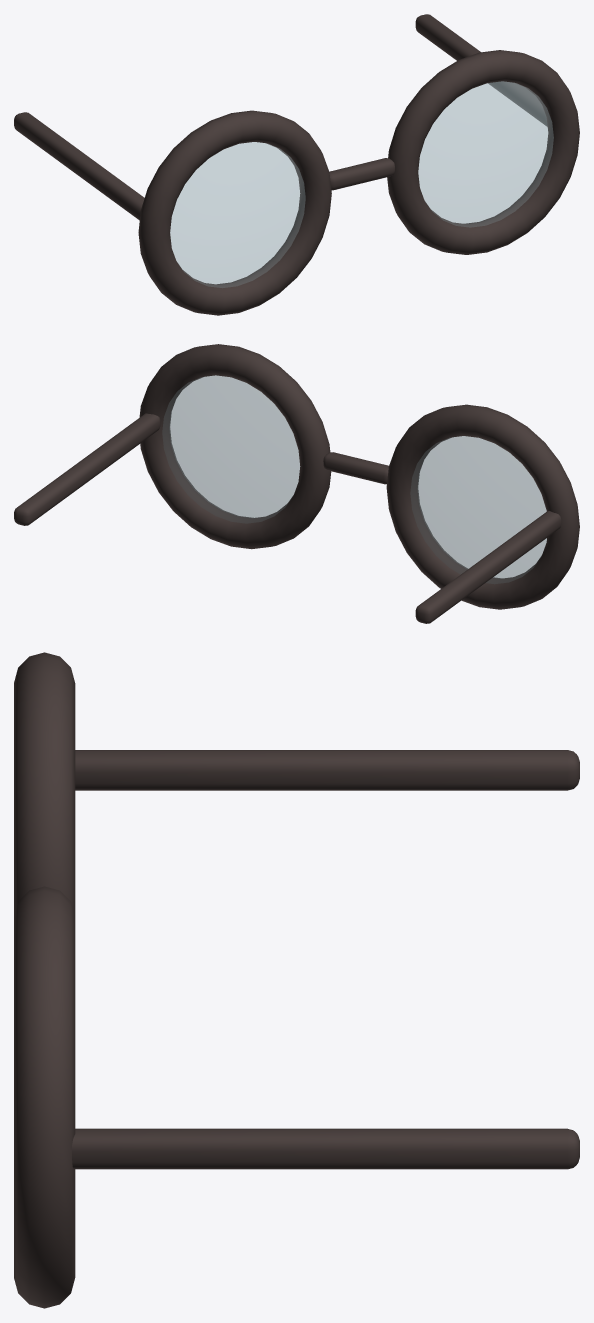
File: part_glasses.glb
3 renders of one model, top to bottom at view 1: azimuth 30°, elevation 25°; view 2: azimuth 150°, elevation 25°; view 3: azimuth 270°, elevation 25°, orthographic. The views are drawn at different scales.
Parts seen in each view (by area): view 1: Gls_Rim_L, Gls_Rim_R, Gls_Lens_R, Gls_Lens_L, Gls_Temple_L, Gls_Temple_R, Gls_Bridge; view 2: Gls_Rim_R, Gls_Rim_L, Gls_Lens_R, Gls_Lens_L, Gls_Temple_R, Gls_Temple_L, Gls_Bridge; view 3: Gls_Rim_R, Gls_Temple_R, Gls_Temple_L, Gls_Rim_L.
Boxes of the visible parts, box(x1,y1,x2,y2) form: Gls_Rim_L: box(138, 110, 331, 315); Gls_Rim_R: box(387, 50, 579, 254); Gls_Lens_R: box(418, 81, 553, 227); Gls_Lens_L: box(170, 142, 305, 287); Gls_Temple_L: box(14, 112, 144, 220); Gls_Temple_R: box(415, 14, 547, 126); Gls_Bridge: box(329, 158, 394, 190); Gls_Rim_R: box(139, 344, 331, 549); Gls_Rim_L: box(386, 404, 579, 609); Gls_Lens_R: box(162, 375, 300, 523); Gls_Lens_L: box(410, 436, 546, 583); Gls_Temple_R: box(14, 413, 160, 525); Gls_Temple_L: box(415, 511, 561, 623); Gls_Bridge: box(323, 452, 388, 484); Gls_Rim_R: box(14, 886, 75, 1308); Gls_Temple_R: box(72, 1128, 579, 1169); Gls_Temple_L: box(75, 750, 579, 790); Gls_Rim_L: box(14, 652, 75, 916).
Size of the model in its own units: 0.638 by 0.276 by 0.37.
